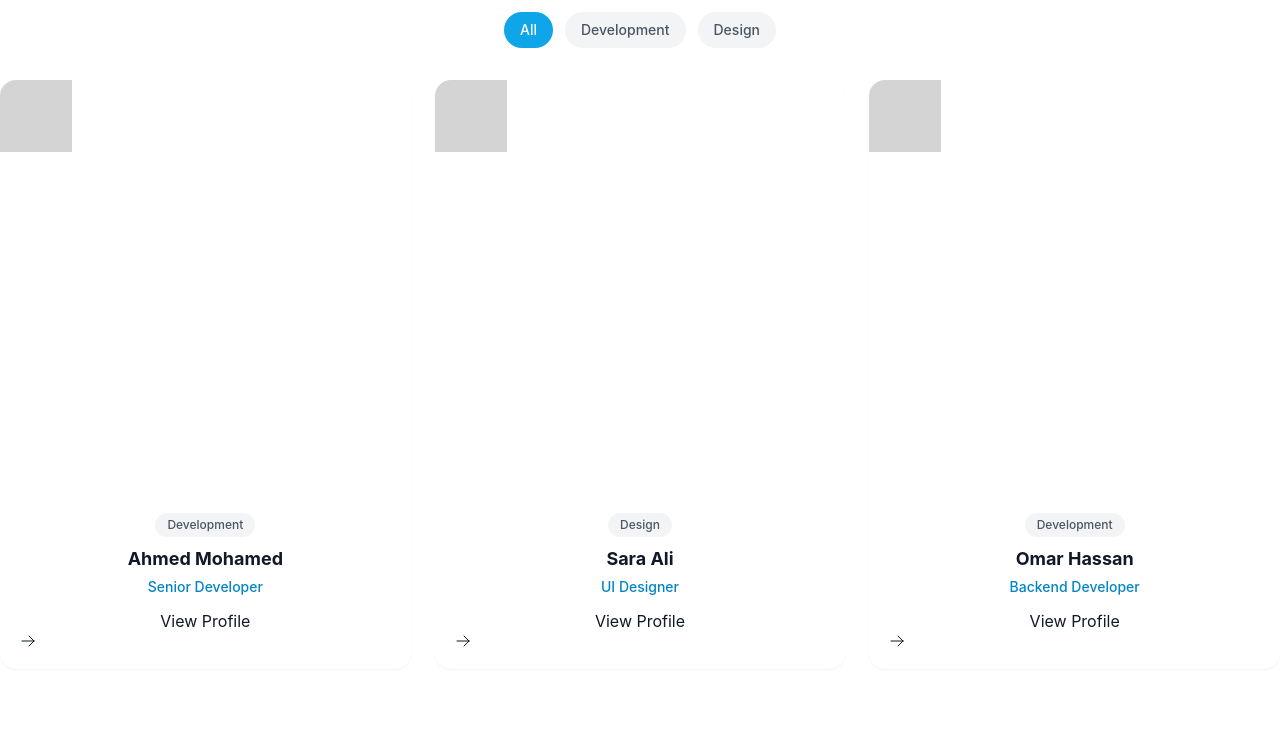
Test: TeamGrid › Department Filtering › should show all members when All button clicked
Note: First click Design to filter
Click the button "Design" at {"x": 737, "y": 30}, box [698,12,776,48]
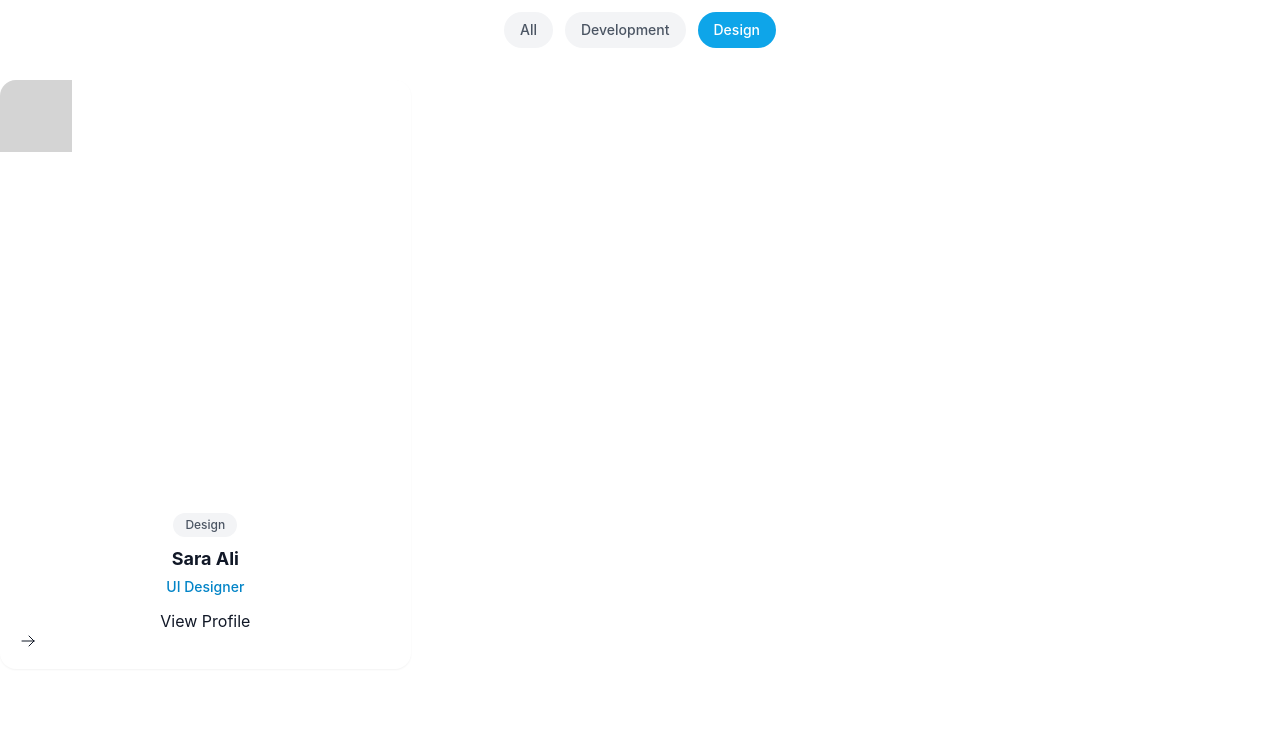
Note: Then click All
Click the button "All" at {"x": 528, "y": 30}, box [504,12,553,48]
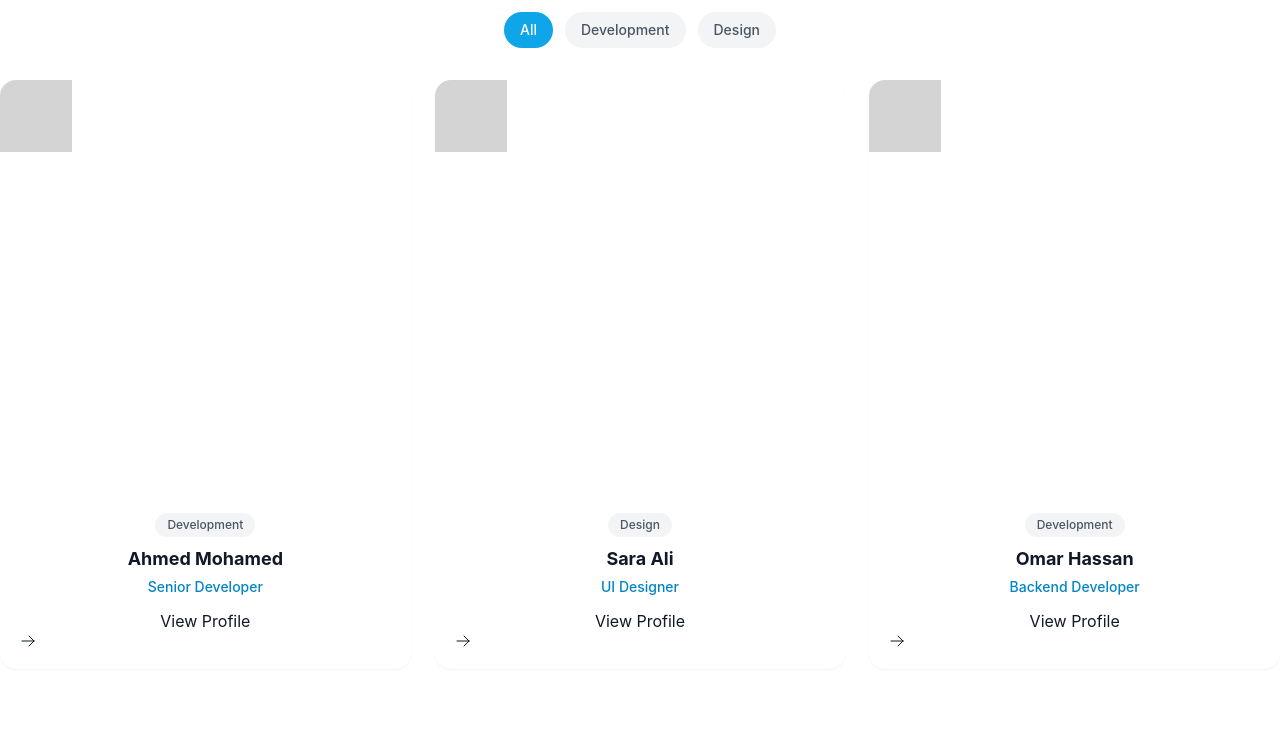
Expected: the heading "Sara Ali" is shown, [606,548,674,569]
Result: the heading "Ahmed Mohamed" is shown at [128,548,283,569]
Result: the heading "Omar Hassan" is shown at [1016,548,1134,569]
